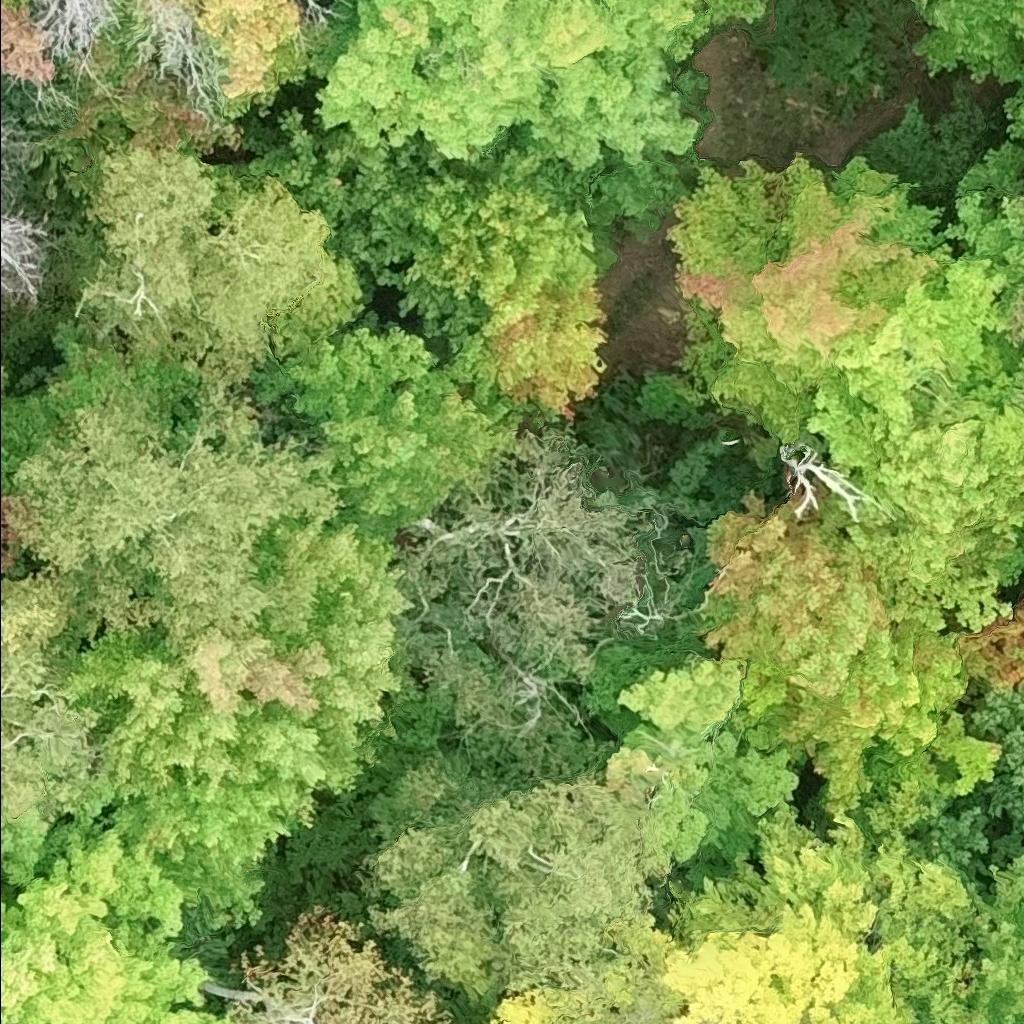crown: (55, 513, 420, 930), (307, 0, 769, 229), (702, 487, 1004, 821), (400, 423, 665, 784), (4, 378, 350, 649), (664, 148, 955, 445), (350, 748, 671, 1004), (72, 139, 338, 388), (248, 310, 530, 529), (652, 803, 926, 1023), (342, 143, 604, 363), (803, 382, 1023, 634), (0, 813, 238, 1023), (606, 653, 799, 884), (440, 203, 608, 431), (837, 250, 1023, 453), (0, 560, 100, 829), (233, 904, 456, 1023), (176, 0, 327, 121), (936, 138, 1023, 315), (958, 852, 1023, 1023), (0, 99, 51, 311), (905, 0, 1023, 86), (962, 685, 1023, 833), (775, 432, 880, 517), (944, 598, 1023, 709), (926, 787, 995, 867), (1000, 71, 1023, 140), (1003, 291, 1023, 347), (1021, 195, 1023, 208)
